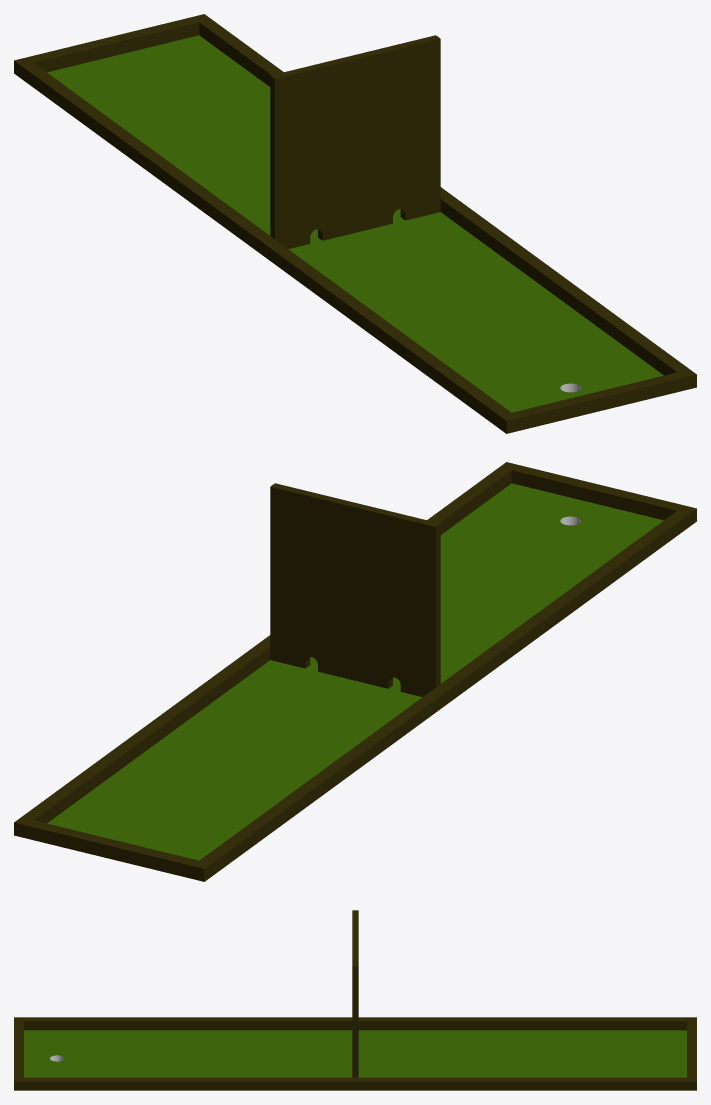
The model's file is course8.fbx.
3 views of the same model, one above another, from view 1: azimuth 30°, elevation 25°; view 2: azimuth 150°, elevation 25°; view 3: azimuth 270°, elevation 25° (orthographic). The views are drawn at different scales.
Parts seen in each view (by area): view 1: pPlane1, Cube, pCube5; view 2: pPlane1, Cube, pCube5; view 3: pPlane1, pCube5, Cube.
Boxes of the visible parts, x1,y1,x2,y2 form: pPlane1: (47,35,663,412); Cube: (270,35,440,248); pCube5: (14,14,696,433); pPlane1: (47,483,663,860); Cube: (270,483,440,696); pCube5: (14,462,696,881); pPlane1: (24,1030,686,1077); pCube5: (14,1017,696,1090); Cube: (352,910,358,1077).
Bounding box in the file's own units: 23 × 22 × 103.
